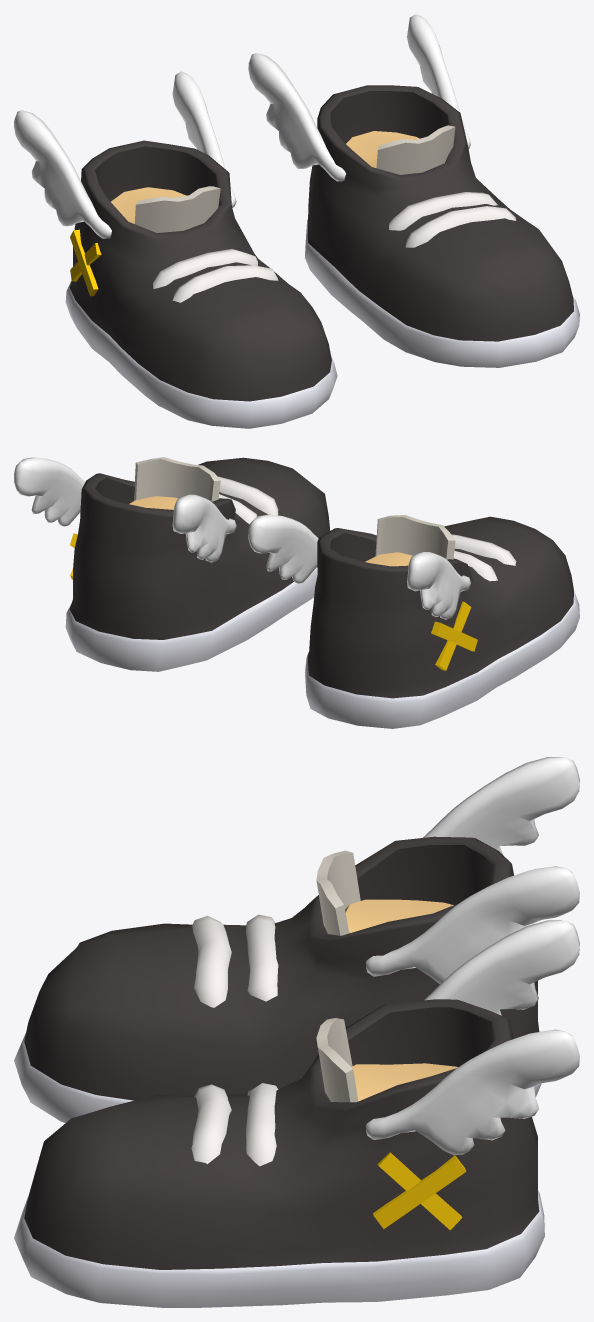
Rendered from Shoes_18_03.fbx.
3 views of the same model, one above another, from view 1: azimuth 30°, elevation 25°; view 2: azimuth 150°, elevation 25°; view 3: azimuth 270°, elevation 25° (orthographic). The views are drawn at different scales.
Parts seen in each view (by area): view 1: Shoes_18_03; view 2: Shoes_18_03; view 3: Shoes_18_03.
Part boxes in pixels (<box>): Shoes_18_03: <box>14,14,579,428</box>; Shoes_18_03: <box>14,457,579,728</box>; Shoes_18_03: <box>14,757,579,1307</box>.
Bounding box in the file's own units: 30.32 × 13.5 × 25.34.
